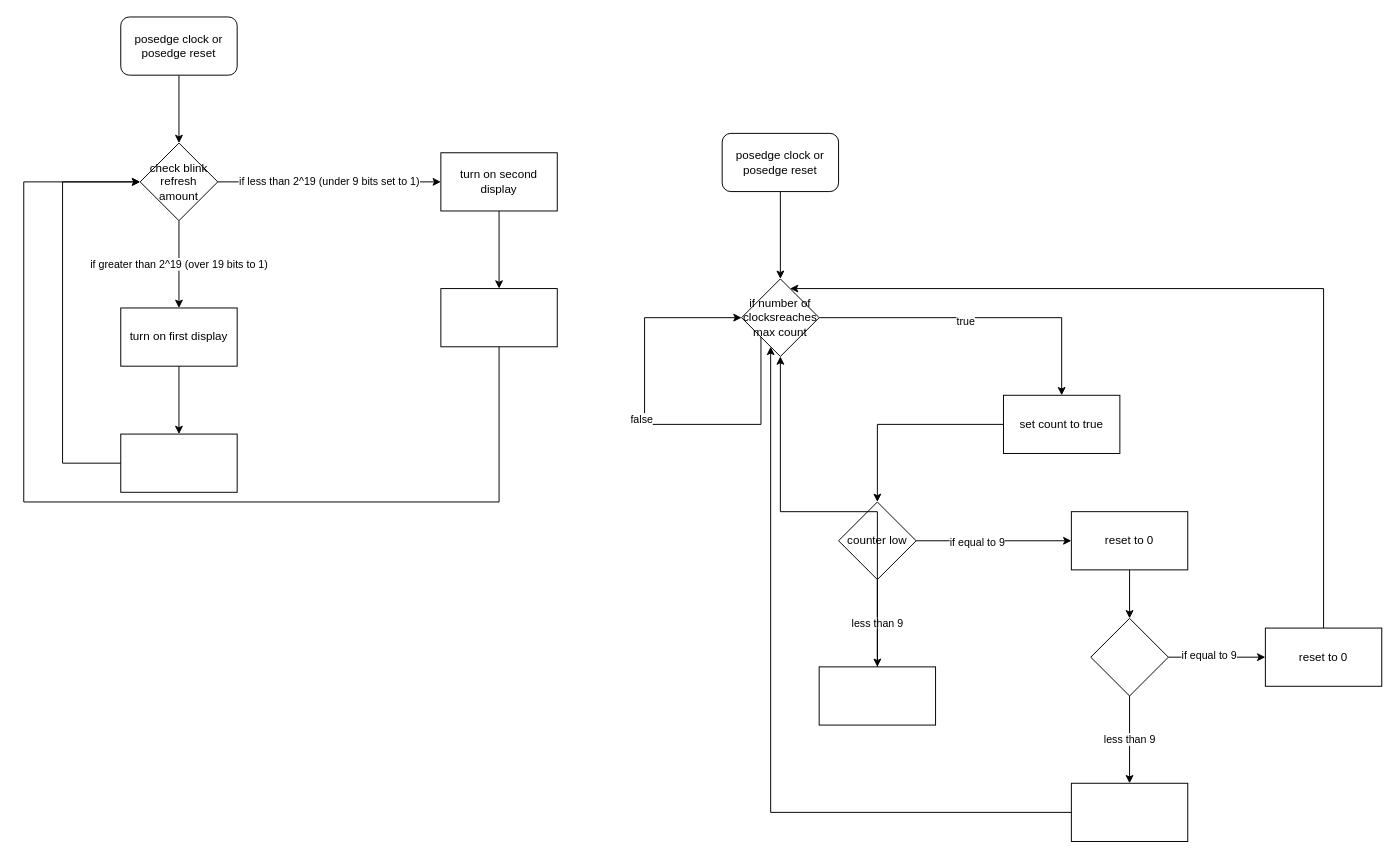
Image size: 1399x858. Some labels were removed from this diagram. The shapes that lost their labels are listed below. From the top down, each one's box as (x1, y1, x2, y2) in pixels, then its label:
(440, 288, 557, 347): based on case, set display to counter low
(120, 433, 237, 492): based on case, set display to counter high
(1090, 617, 1168, 696): counter high
(818, 666, 936, 725): increment counter low
(1070, 782, 1188, 841): increment counter high
